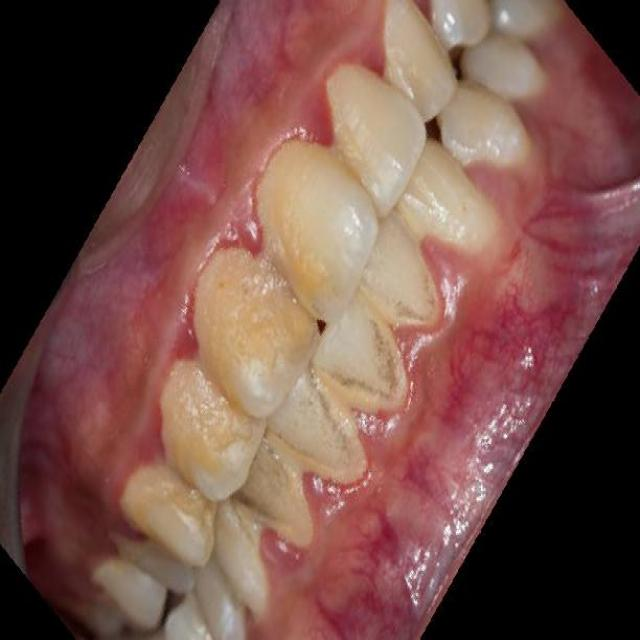swelling: (220, 203, 278, 267), (244, 522, 306, 578), (167, 313, 206, 368)
